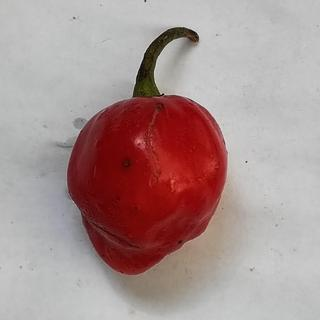Fly-bites: (176, 236, 188, 249)
striped: (84, 218, 147, 253), (141, 101, 167, 181)
